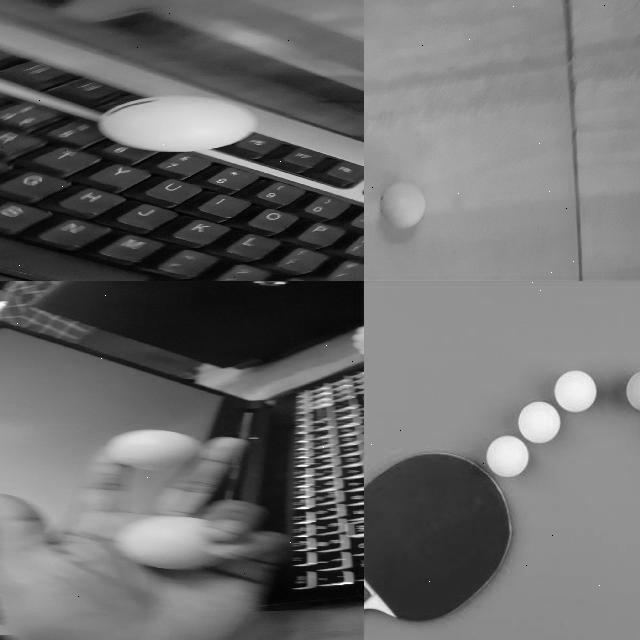ping-pong-ball: (105, 96, 248, 150), (116, 515, 225, 571), (110, 430, 204, 470), (380, 182, 424, 226), (553, 370, 595, 410), (516, 402, 558, 442), (486, 436, 528, 476), (624, 370, 639, 410)
